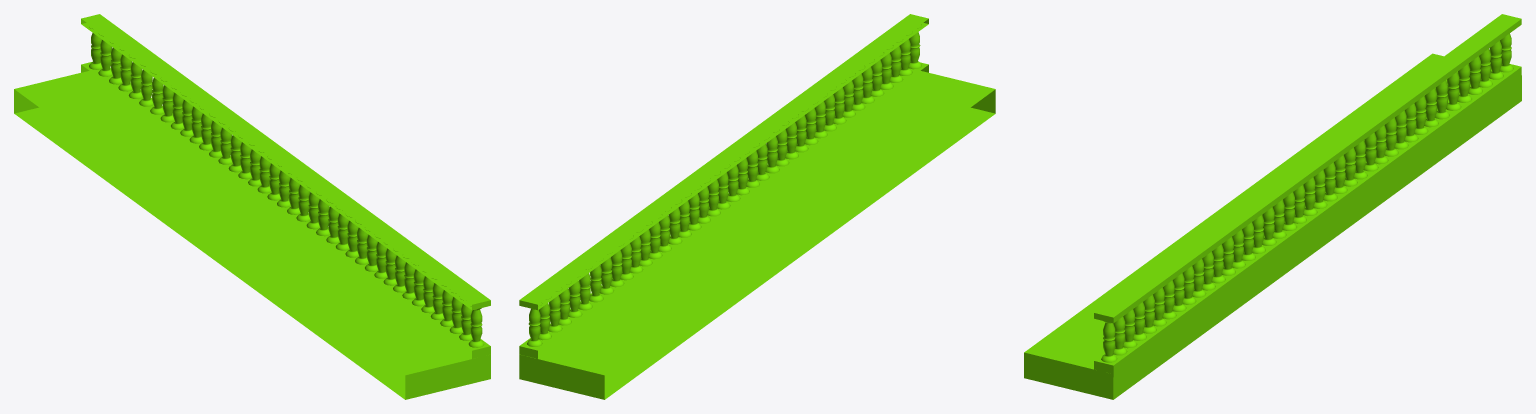
Rendered from Balcony.fbx.
The picture shows the model from 3 angles, left to right: view 1: azimuth 30°, elevation 25°; view 2: azimuth 150°, elevation 25°; view 3: azimuth 330°, elevation 25°; orthographic projection. The views are drawn at different scales.
Visible parts, largest first — view 1: Balcony3; view 2: Balcony3; view 3: Balcony3.
Part boxes in pixels (x1,y1,x2,y2): Balcony3: (14, 14, 490, 399); Balcony3: (519, 14, 995, 399); Balcony3: (1024, 14, 1521, 399).
Bounding box in the file's own units: 282 × 248 × 2232.
